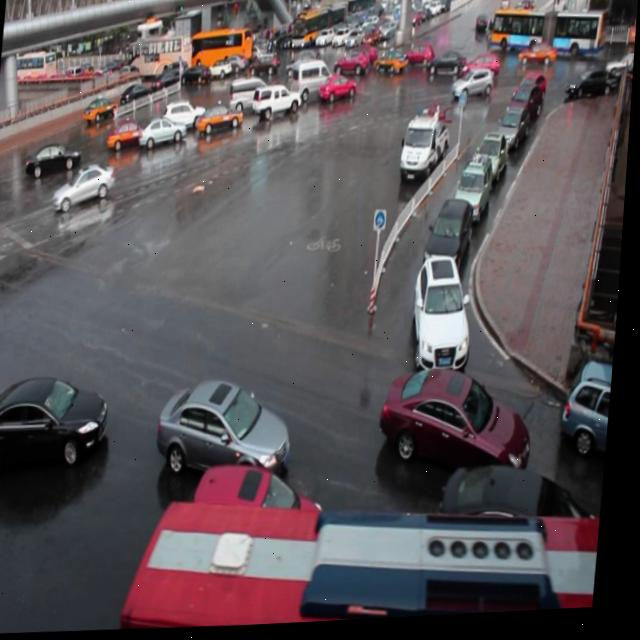bus: (400, 116, 450, 184)
car: (381, 368, 541, 488), (439, 460, 603, 574), (159, 377, 302, 488), (196, 458, 333, 560), (0, 368, 116, 472), (410, 256, 481, 376), (564, 361, 619, 462), (423, 198, 477, 276), (54, 162, 118, 212), (455, 160, 496, 227), (472, 135, 510, 195), (28, 138, 84, 173), (197, 101, 246, 138), (251, 85, 303, 119), (493, 106, 528, 156), (507, 88, 542, 134), (140, 116, 189, 146), (163, 99, 208, 131), (451, 72, 494, 104), (518, 76, 547, 116), (108, 120, 151, 146), (320, 76, 359, 103)
truck: (291, 63, 335, 102), (229, 78, 273, 112)
van: (122, 486, 609, 634)
